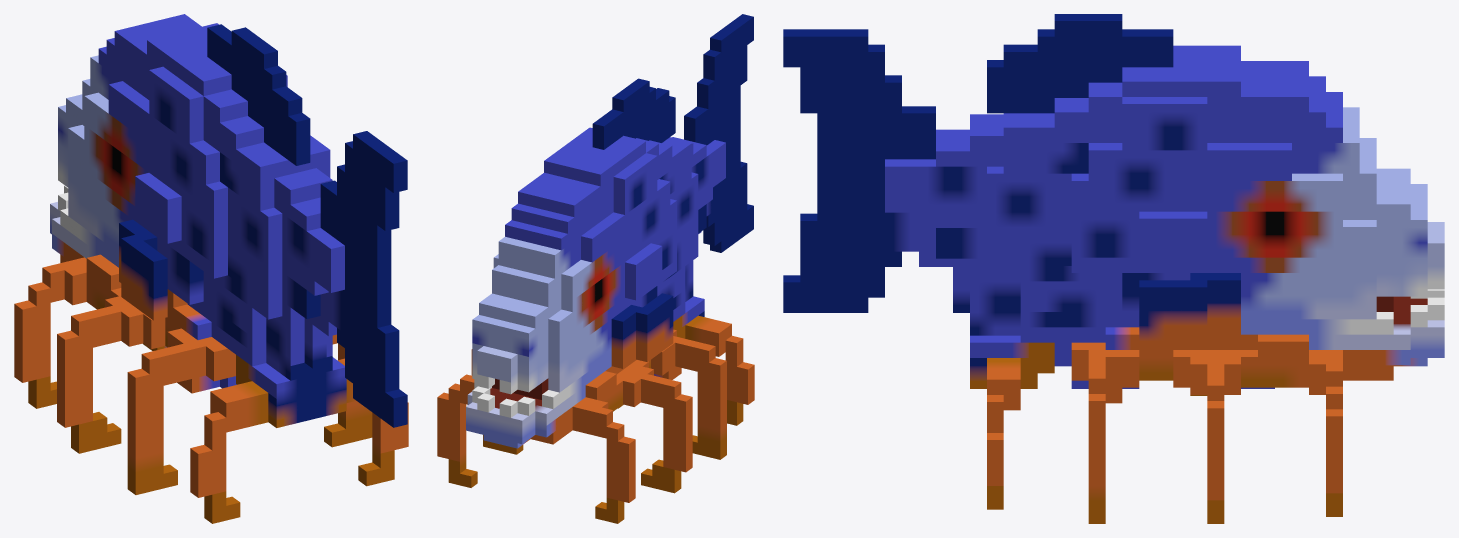
File: footed_piranha.fbx
3 views of the same model, side by side, from view 1: azimuth 30°, elevation 25°; view 2: azimuth 150°, elevation 25°; view 3: azimuth 270°, elevation 25° (orthographic). The views are drawn at different scales.
Visible parts, largest first — view 1: Union_16; view 2: Union_16; view 3: Union_16.
Part boxes in pixels (x1,y1,x2,y2): Union_16: (14,14,408,523); Union_16: (437,14,754,523); Union_16: (783,14,1444,523).
Size of the model in its own units: 19 by 29 by 39.
1 material, 1 textured.
